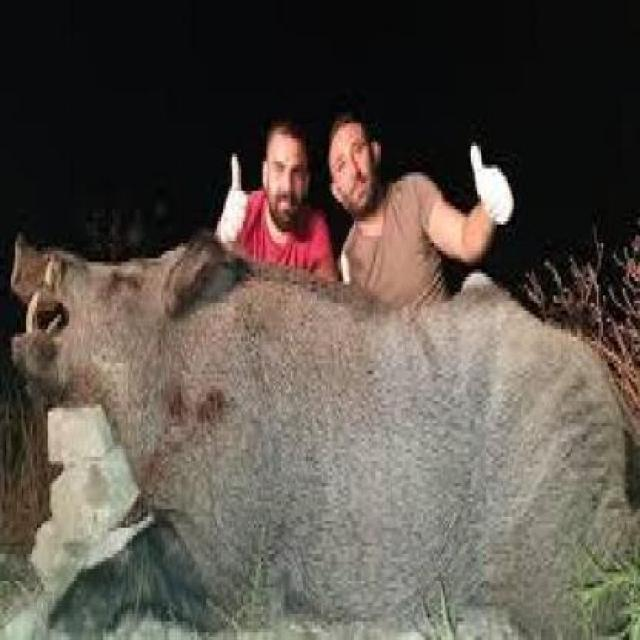wildboar: (4, 226, 640, 640)
